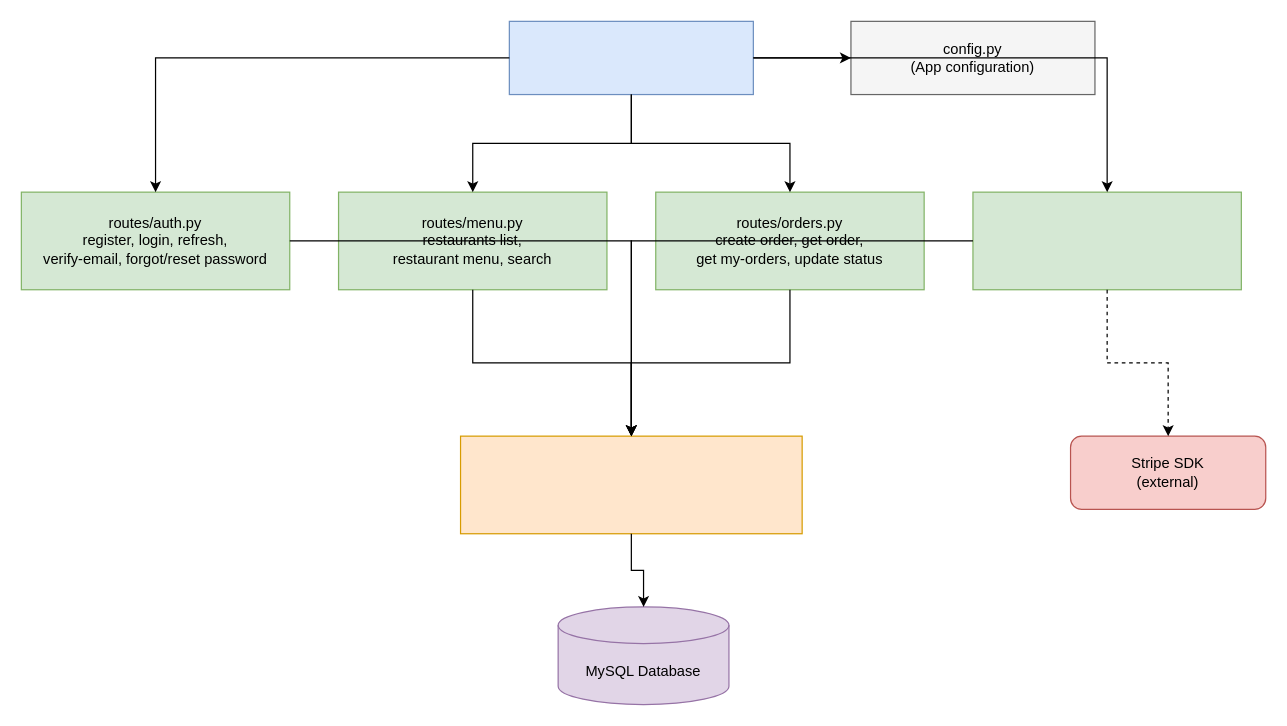
This 1287x726 diagram has some shape labels left out. The shapes that lost their labels are listed below. From the top down, each one's box as (x1, y1, x2, y2) in pixels, then its label:
(508, 20, 753, 95): run.py (App entry point)
(972, 191, 1241, 290): routes/payments.py create-payment-intent, confirm
(459, 435, 802, 534): models.py User, Restaurant, MenuItem, Order, OrderItem, Payment
